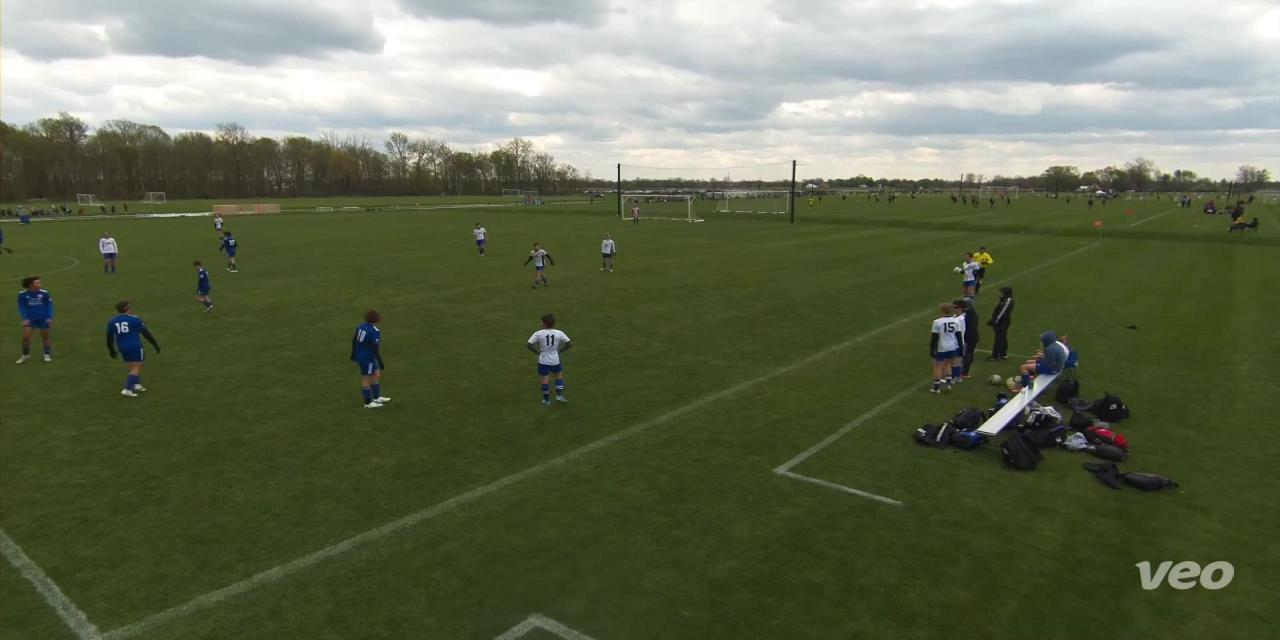goal: (615, 188, 709, 228)
